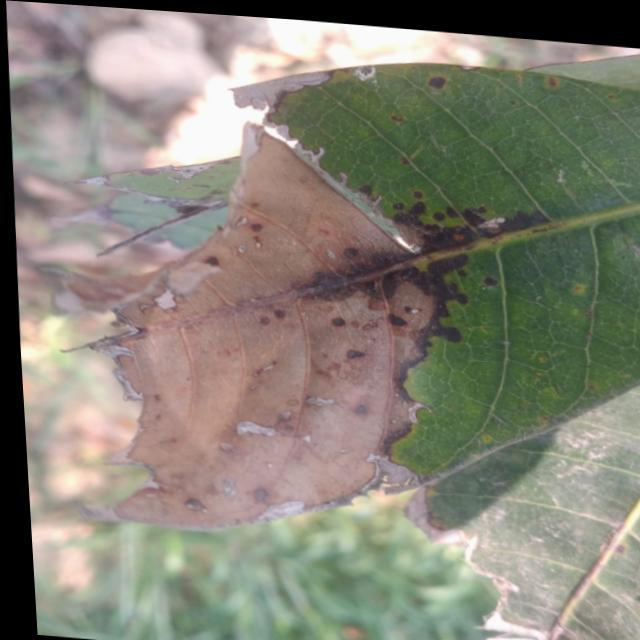Anthracnose: (333, 210, 485, 310), (197, 254, 224, 270), (387, 312, 410, 330), (326, 318, 351, 330)
Bacterial Cancer: (123, 160, 406, 496)
